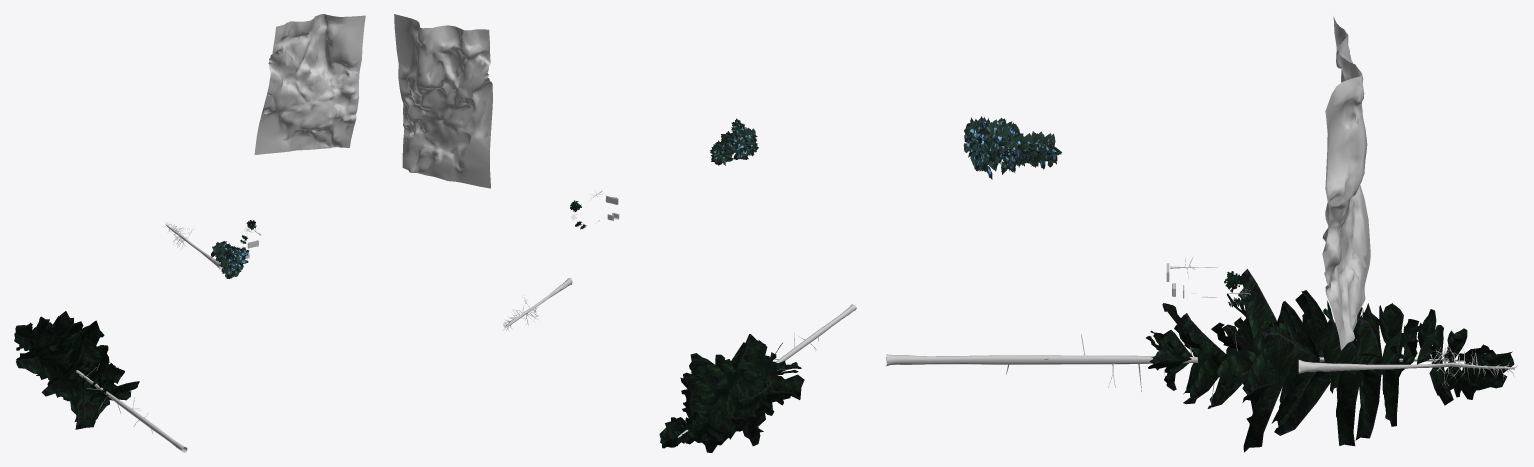
File: Large-treeobj.obj
3 renders of one model, left to right at view 1: azimuth 30°, elevation 25°; view 2: azimuth 150°, elevation 25°; view 3: azimuth 270°, elevation 25°, orthographic. The views are drawn at different scales.
Parts seen in each view (by area): view 1: Mesh_0160.rip, Mesh_0171.rip_Mesh_0171.rip.001, Mesh_0174.rip, Mesh_0133.rip; view 2: Mesh_0160.rip, Mesh_0171.rip_Mesh_0171.rip.001, Mesh_0174.rip, Mesh_0133.rip; view 3: Mesh_0171.rip_Mesh_0171.rip.001, Mesh_0160.rip, Mesh_0174.rip, Mesh_0133.rip.
Part boxes in pixels (x1,y1,x2,y2): Mesh_0160.rip: (254, 14, 365, 154); Mesh_0171.rip_Mesh_0171.rip.001: (14, 311, 187, 452); Mesh_0174.rip: (211, 241, 249, 278); Mesh_0133.rip: (163, 222, 222, 269); Mesh_0160.rip: (394, 14, 492, 188); Mesh_0171.rip_Mesh_0171.rip.001: (659, 304, 856, 452); Mesh_0174.rip: (710, 118, 758, 165); Mesh_0133.rip: (503, 278, 572, 330); Mesh_0171.rip_Mesh_0171.rip.001: (885, 269, 1514, 452); Mesh_0160.rip: (1322, 16, 1370, 350); Mesh_0174.rip: (963, 116, 1061, 179); Mesh_0133.rip: (1298, 344, 1517, 387).
Size of the model in its own units: 237 by 220 by 200.
